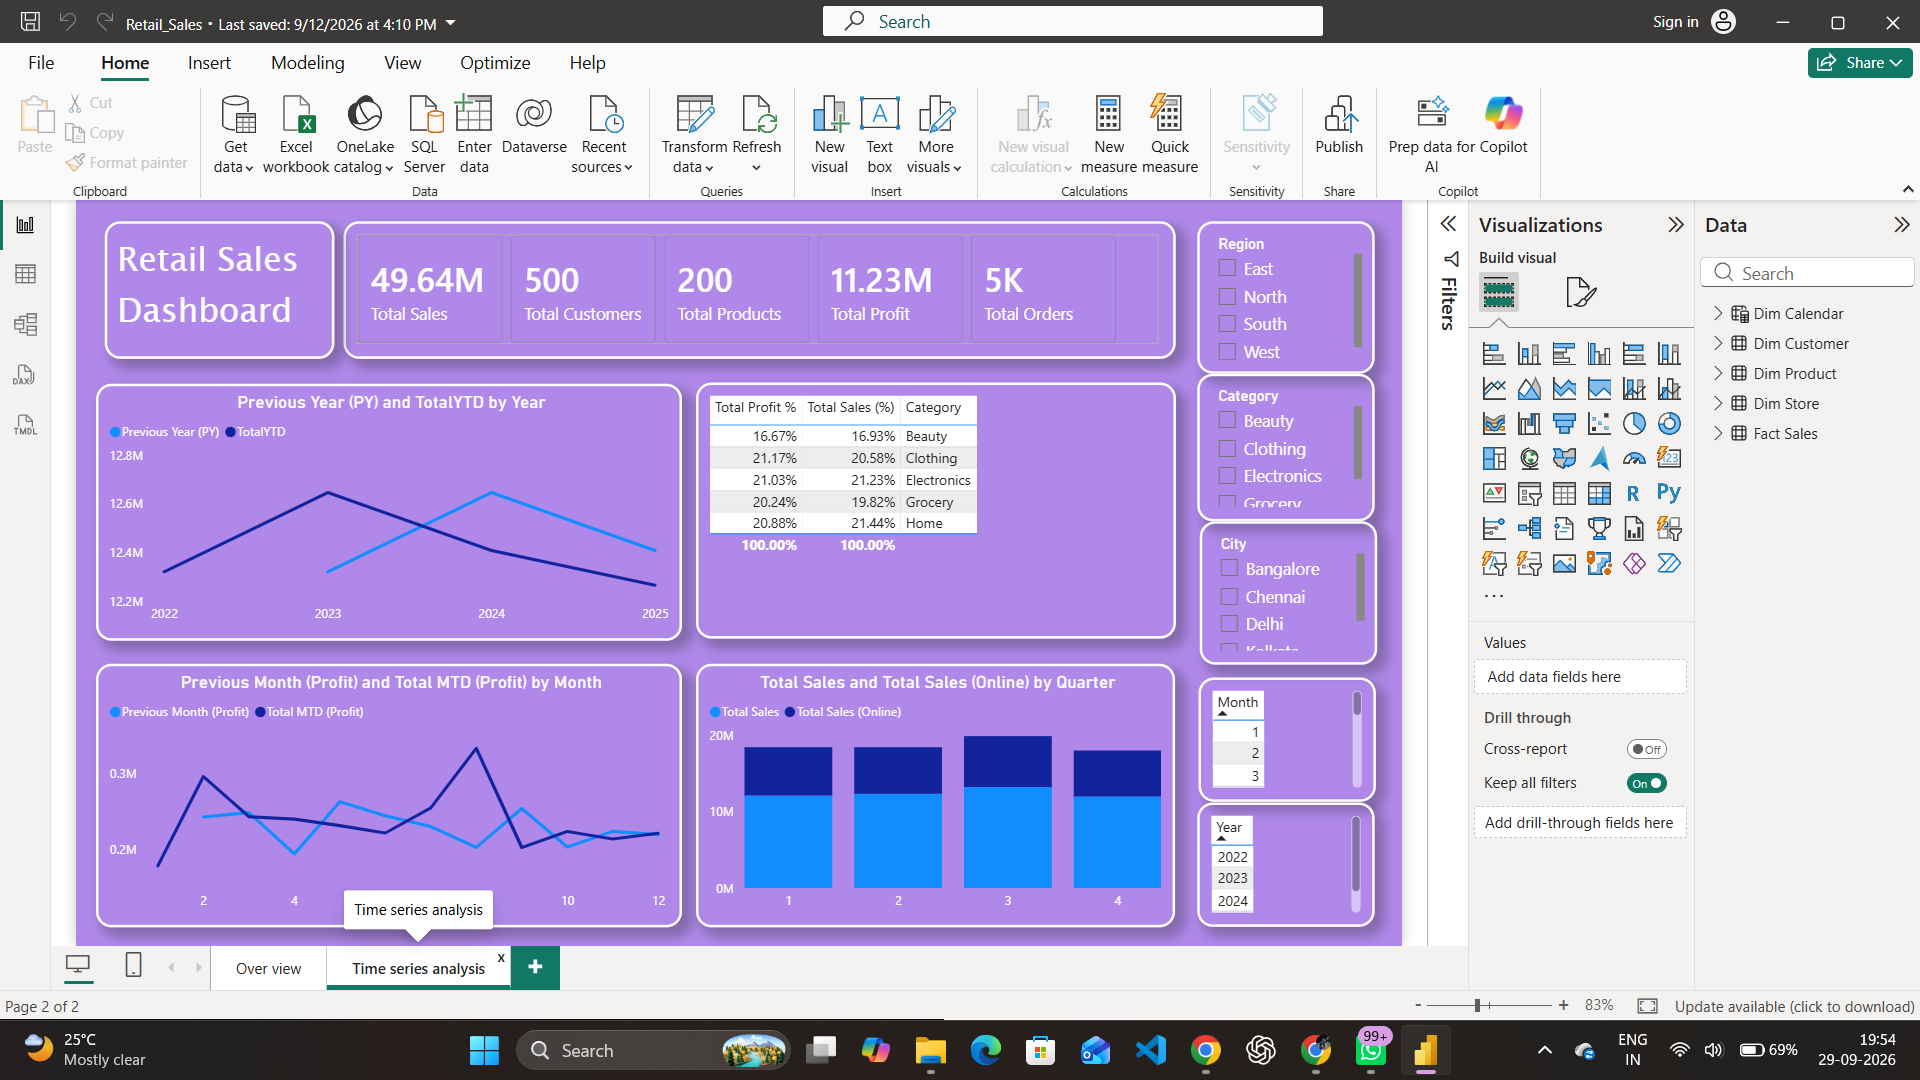

Layout of this report page (visuals, bound fields, positions):
{"tool":"powerbi","page":{"name":"Time series analysis","canvas":[1280,720],"ordinal":1},"visuals":[{"type":"cardVisual","fields":{"Data":["Fact Sales.Total Sales","Fact Sales.Total Customers","Fact Sales.Total Products","Fact Sales.Total Profit","Fact Sales.Total Orders"]},"box":[258.2,20.5,803.5,132.7],"z":0},{"type":"slicer","fields":{"Values":["Dim Customer.Region"]},"box":[1082.5,20,171.2,147.5],"z":1000},{"type":"slicer","fields":{"Values":["Dim Product.Category"]},"box":[1082.5,167.5,171.2,142.5],"z":2000},{"type":"slicer","fields":{"Values":["Dim Customer.City"]},"box":[1085,310,171.2,138.8],"z":3000},{"type":"tableEx","fields":{"Values":["Dim Calendar.Month"]},"box":[1083.8,461.2,171.2,120],"z":4000},{"type":"tableEx","fields":{"Values":["Dim Calendar.Year"]},"box":[1082.5,581.2,171.2,120],"z":5000},{"type":"textbox","box":[27.7,20.5,222,132.7],"z":6000},{"type":"lineChart","fields":{"Category":["Dim Calendar.Year"],"Y":["Fact Sales.Previous Year (PY)","Fact Sales.TotalYTD"]},"box":[18.8,177,565.7,248],"z":7000},{"type":"lineChart","fields":{"Y":["Fact Sales.Previous Month (Profit)","Fact Sales.Total MTD (Profit)"],"Category":["Dim Calendar.Month"]},"box":[18.8,447.8,565.7,254.7],"z":8000},{"type":"tableEx","fields":{"Values":["Fact Sales.Total Profit %","Fact Sales.Total Sales (%)","Dim Product.Category"]},"box":[598.4,176.1,463.3,247.3],"z":9000},{"type":"columnChart","fields":{"Category":["Dim Calendar.Quarter"],"Y":["Fact Sales.Total Sales","Fact Sales.Total Sales (Online)"]},"box":[597.9,447.8,462.5,254.7],"z":10000}]}

Visuals, with their boxes on the page's 1280x720 design canvas (x1, y1, x2, y2). These are canvas units, not pixel positions in the 1920x1080 screenshot, which may show the page scaled, cropped or inside an application window:
cardVisual - Fact Sales.Total Sales x Fact Sales.Total Customers: 258 20 1062 153
slicer - Dim Customer.Region: 1082 20 1254 168
slicer - Dim Product.Category: 1082 168 1254 310
slicer - Dim Customer.City: 1085 310 1256 449
tableEx - Dim Calendar.Month: 1084 461 1255 581
tableEx - Dim Calendar.Year: 1082 581 1254 701
textbox: 28 20 250 153
lineChart - Dim Calendar.Year x Fact Sales.Previous Year (PY): 19 177 584 425
lineChart - Fact Sales.Previous Month (Profit) x Fact Sales.Total MTD (Profit): 19 448 584 702
tableEx - Fact Sales.Total Profit % x Fact Sales.Total Sales (%): 598 176 1062 423
columnChart - Dim Calendar.Quarter x Fact Sales.Total Sales: 598 448 1060 702
